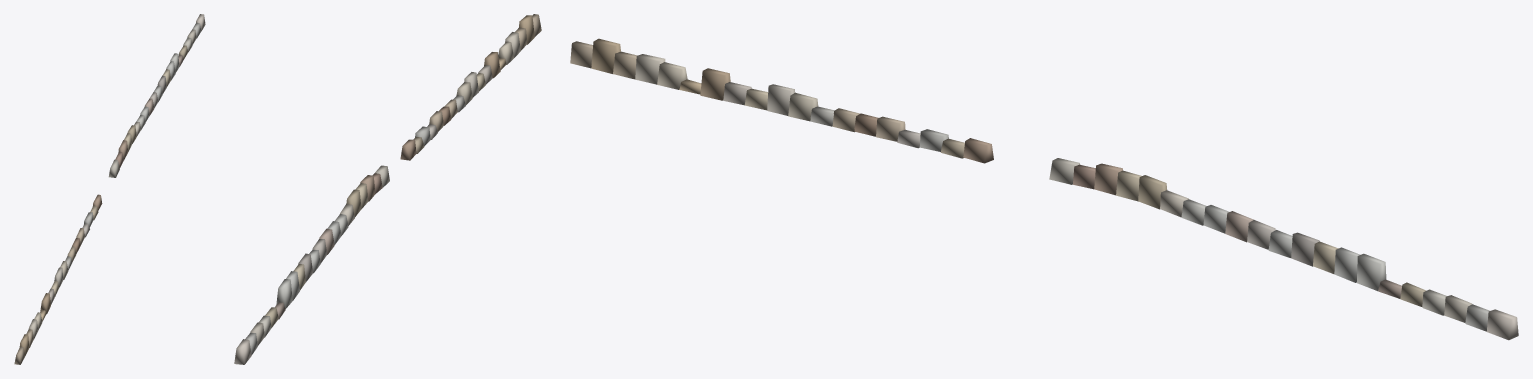
Rendered from farm_13_7_far.glb.
3 views of the same model, side by side, from view 1: azimuth 30°, elevation 25°; view 2: azimuth 210°, elevation 25°; view 3: azimuth 270°, elevation 25° (orthographic). The views are drawn at different scales.
Parts seen in each view (by area): view 1: geometry_0; view 2: geometry_0; view 3: geometry_0.
Boxes of the visible parts, x1=… form: geometry_0: x1=14, y1=14, x2=205, y2=364; geometry_0: x1=234, y1=14, x2=541, y2=364; geometry_0: x1=570, y1=38, x2=1518, y2=340.
Size of the model in its own units: 49.1 by 8.44 by 47.62.
